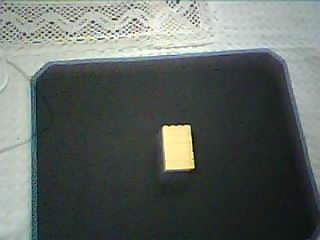lego: (159, 123, 195, 174)
